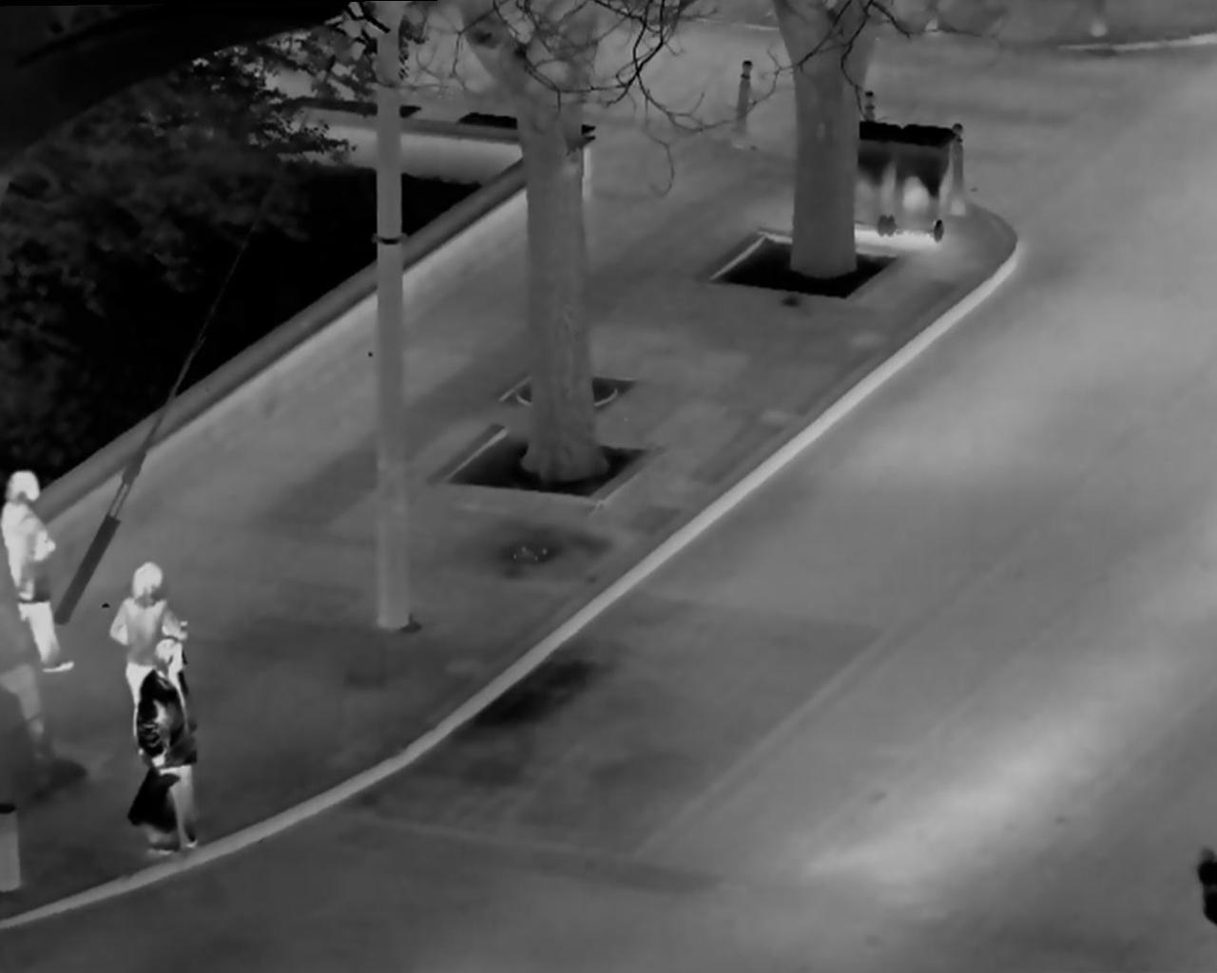person: (126, 636, 220, 866), (4, 462, 76, 692), (109, 556, 183, 727)
